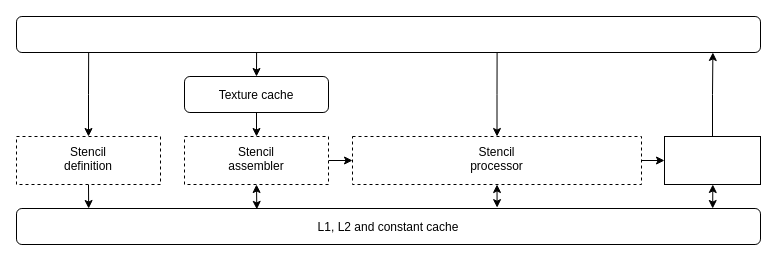
Image size: 777x261. Some labels were removed from this diagram. Here are the shapes that lost their labels. From the top down, the centre of each, then its label:
point 388,34: Device memory
point 712,160: Output merger
